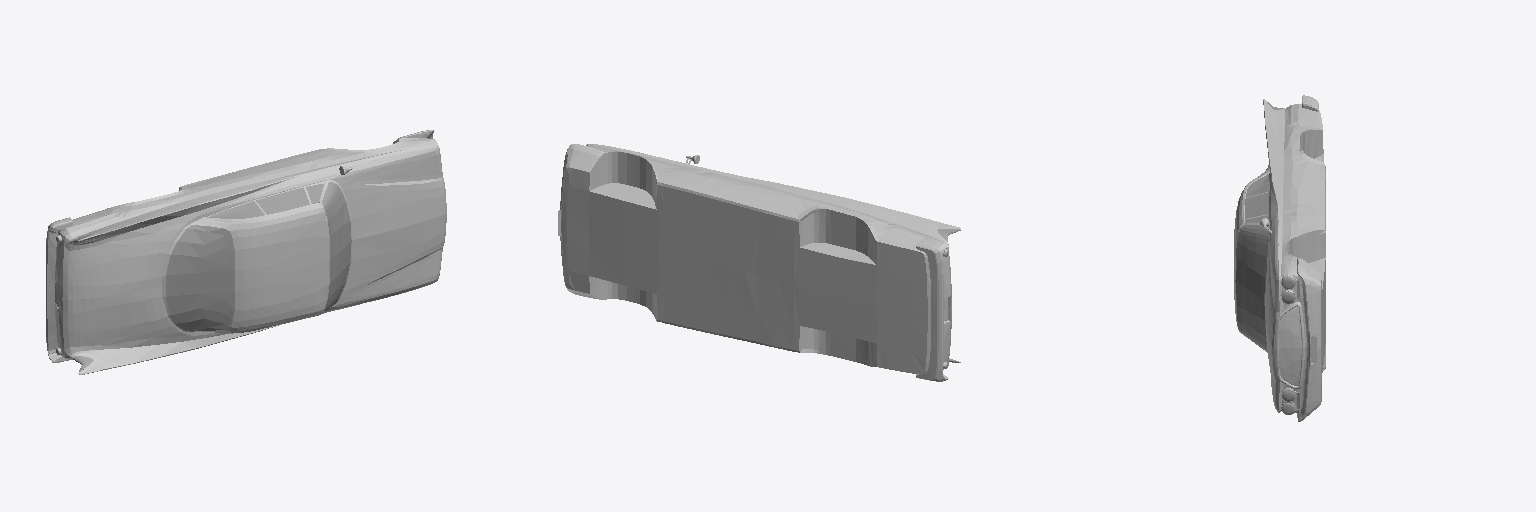
3 renders of one model, left to right at view 1: azimuth 30°, elevation 25°; view 2: azimuth 150°, elevation 25°; view 3: azimuth 270°, elevation 25°, orthographic.
Visible parts, largest first — view 1: LowBody, LowGlass; view 2: LowBody; view 3: LowBody, LowGlass.
Part boxes in pixels (bbox=[...]): LowBody: bbox=[46, 130, 446, 374]; LowGlass: bbox=[56, 182, 351, 371]; LowBody: bbox=[558, 144, 960, 381]; LowBody: bbox=[1234, 95, 1325, 421]; LowGlass: bbox=[1236, 102, 1299, 414].
Size of the model in its own units: 573 by 216 by 119.
Materials: 2 (1 with a texture image).